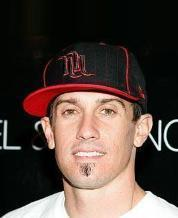face: (58, 100, 117, 162)
